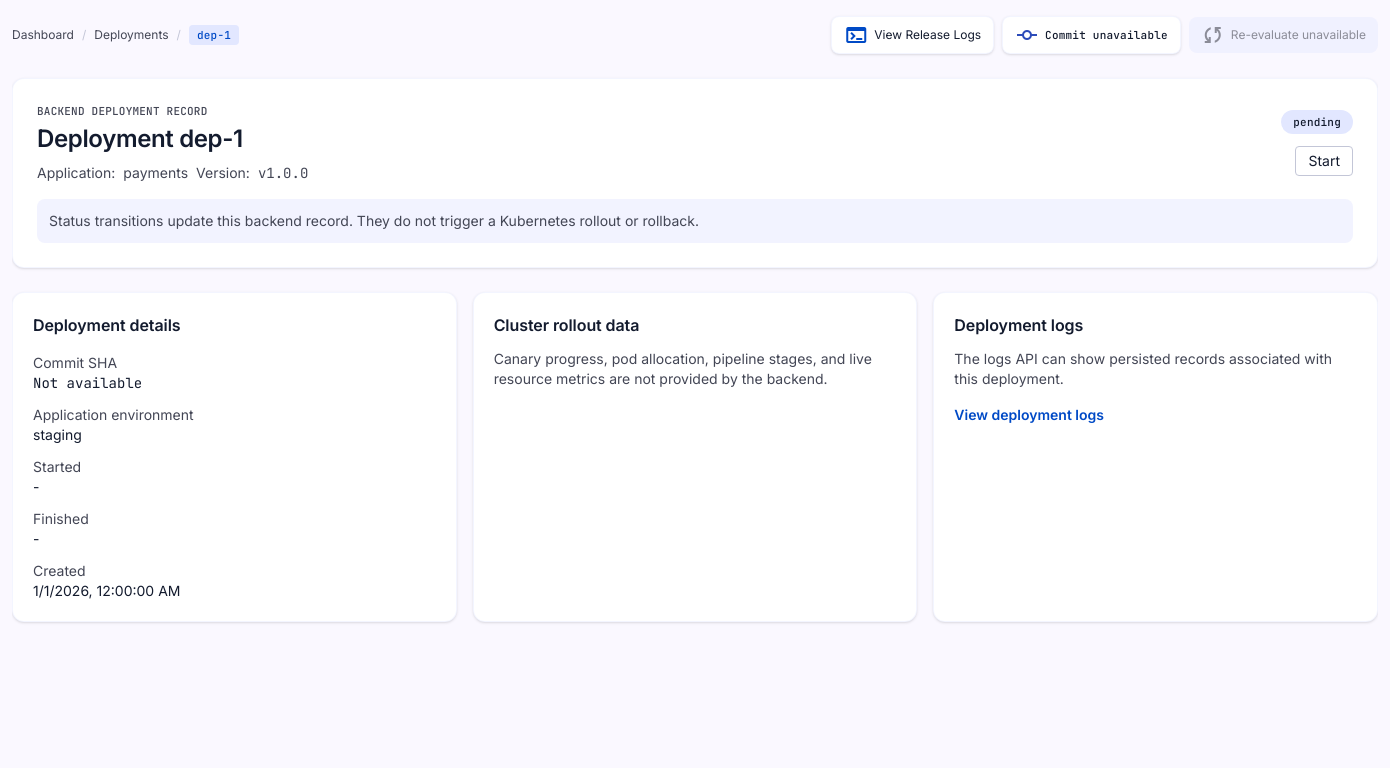
DeploymentDetailPage › reports a 409 and re-fetches the latest deployment
Click the button "Start" at (1324,161), box top-left (1295, 146), bottom-right (1353, 176)
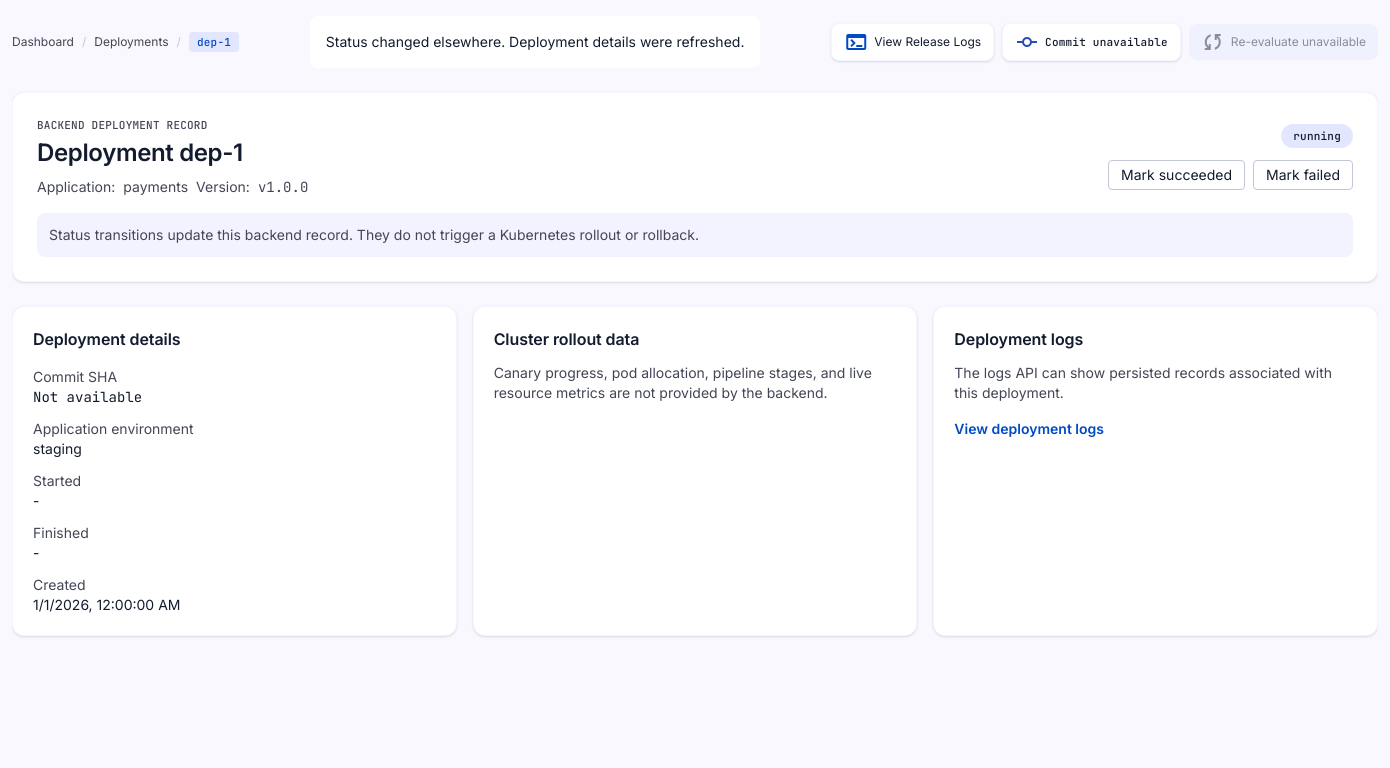
Expected: the text "Status changed elsewhere. Deployment details were refreshed." is shown, top-left (310, 16), bottom-right (760, 68)
Expected: the text "running" is shown, top-left (1281, 124), bottom-right (1353, 148)
